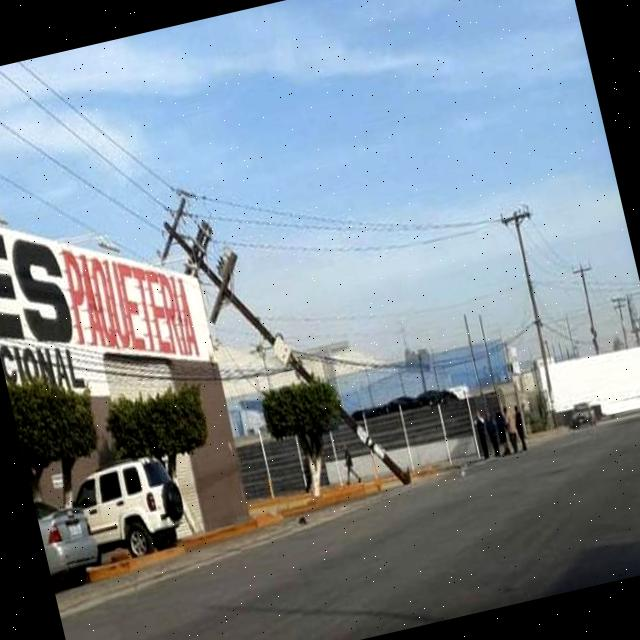Broken Pole: (159, 194, 411, 486)
